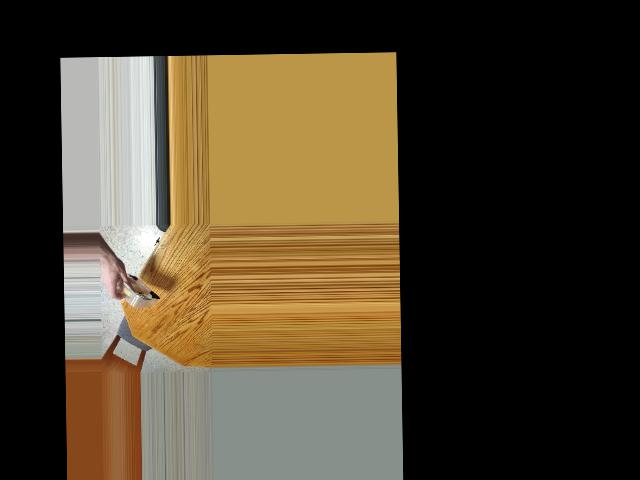cheese: (114, 267, 155, 318)
